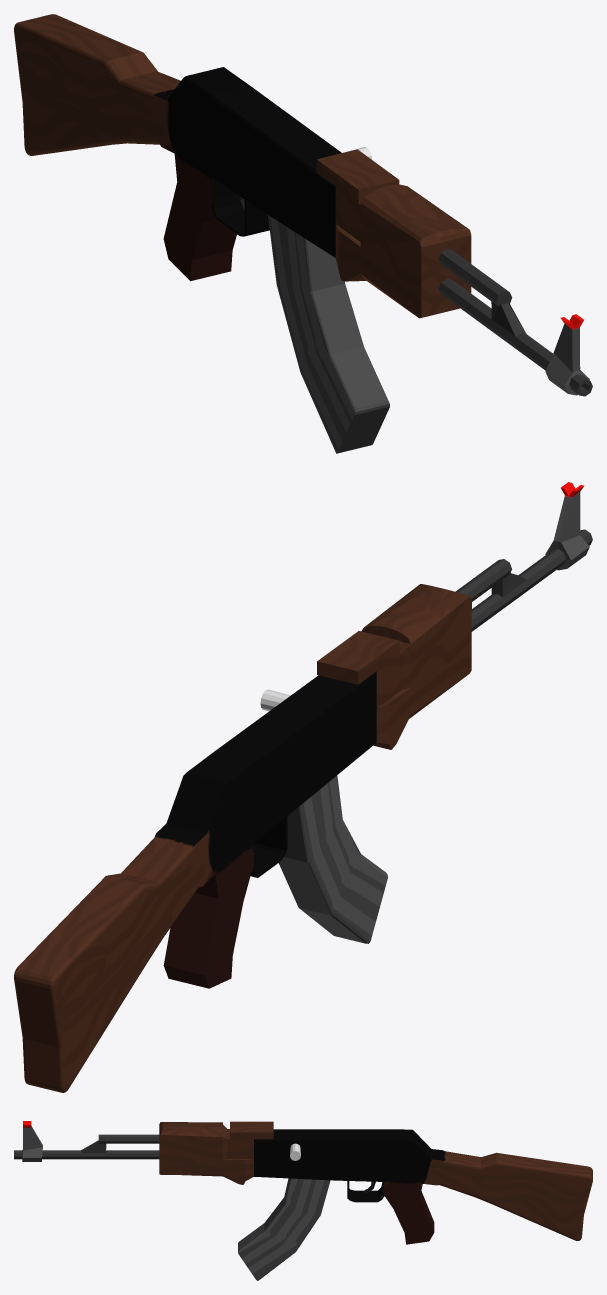
3 renders of one model, top to bottom at view 1: azimuth 30°, elevation 25°; view 2: azimuth 150°, elevation 25°; view 3: azimuth 270°, elevation 25°, orthographic. The views are drawn at different scales.
Parts seen in each view (by area): view 1: AK Base, AK Mag, AK barrel; view 2: AK Base, AK Mag, AK barrel; view 3: AK Base, AK Mag, AK barrel.
Boxes of the visible parts, x1,y1,x2,y2 form: AK Base: (14,14,471,318); AK Mag: (268,215,389,453); AK barrel: (439,249,592,396); AK Base: (14,584,471,1092); AK Mag: (278,775,387,943); AK barrel: (455,482,592,631); AK Base: (159,1121,592,1244); AK Mag: (238,1178,330,1280); AK barrel: (14,1121,159,1161).
Size of the model in its own units: 67.04 by 246 by 845.
